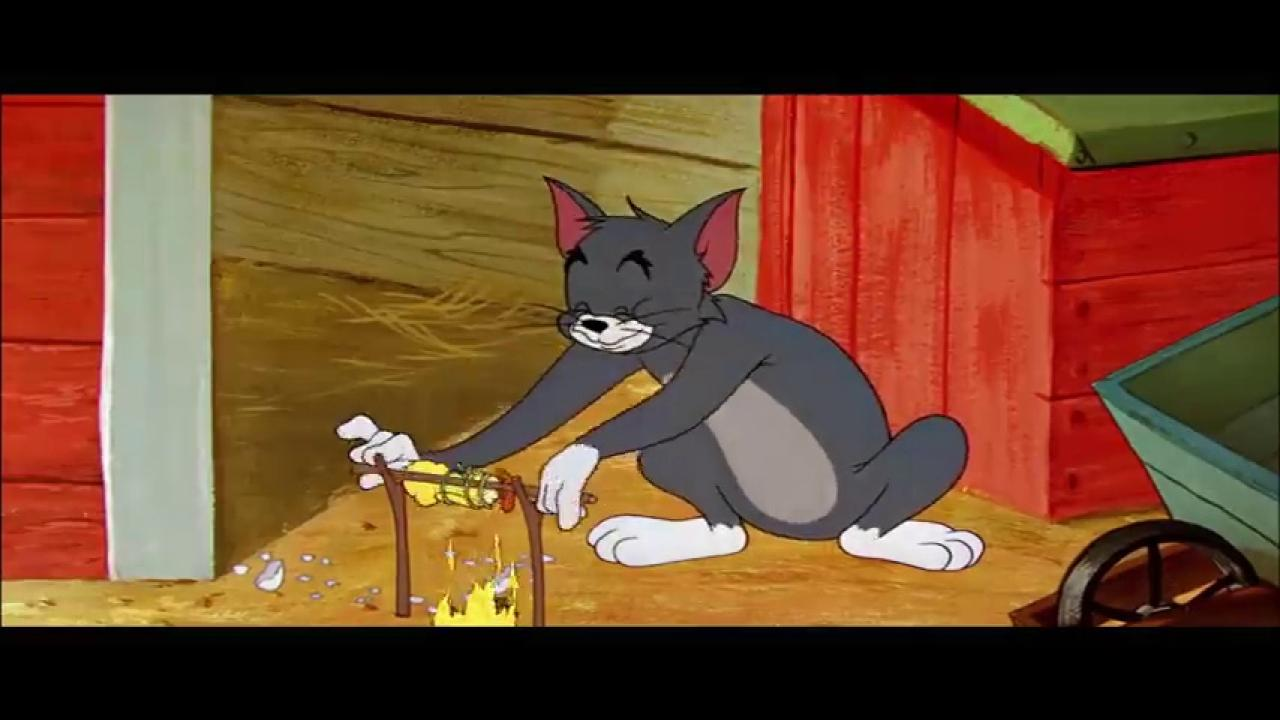Tom: (332, 174, 986, 575)
